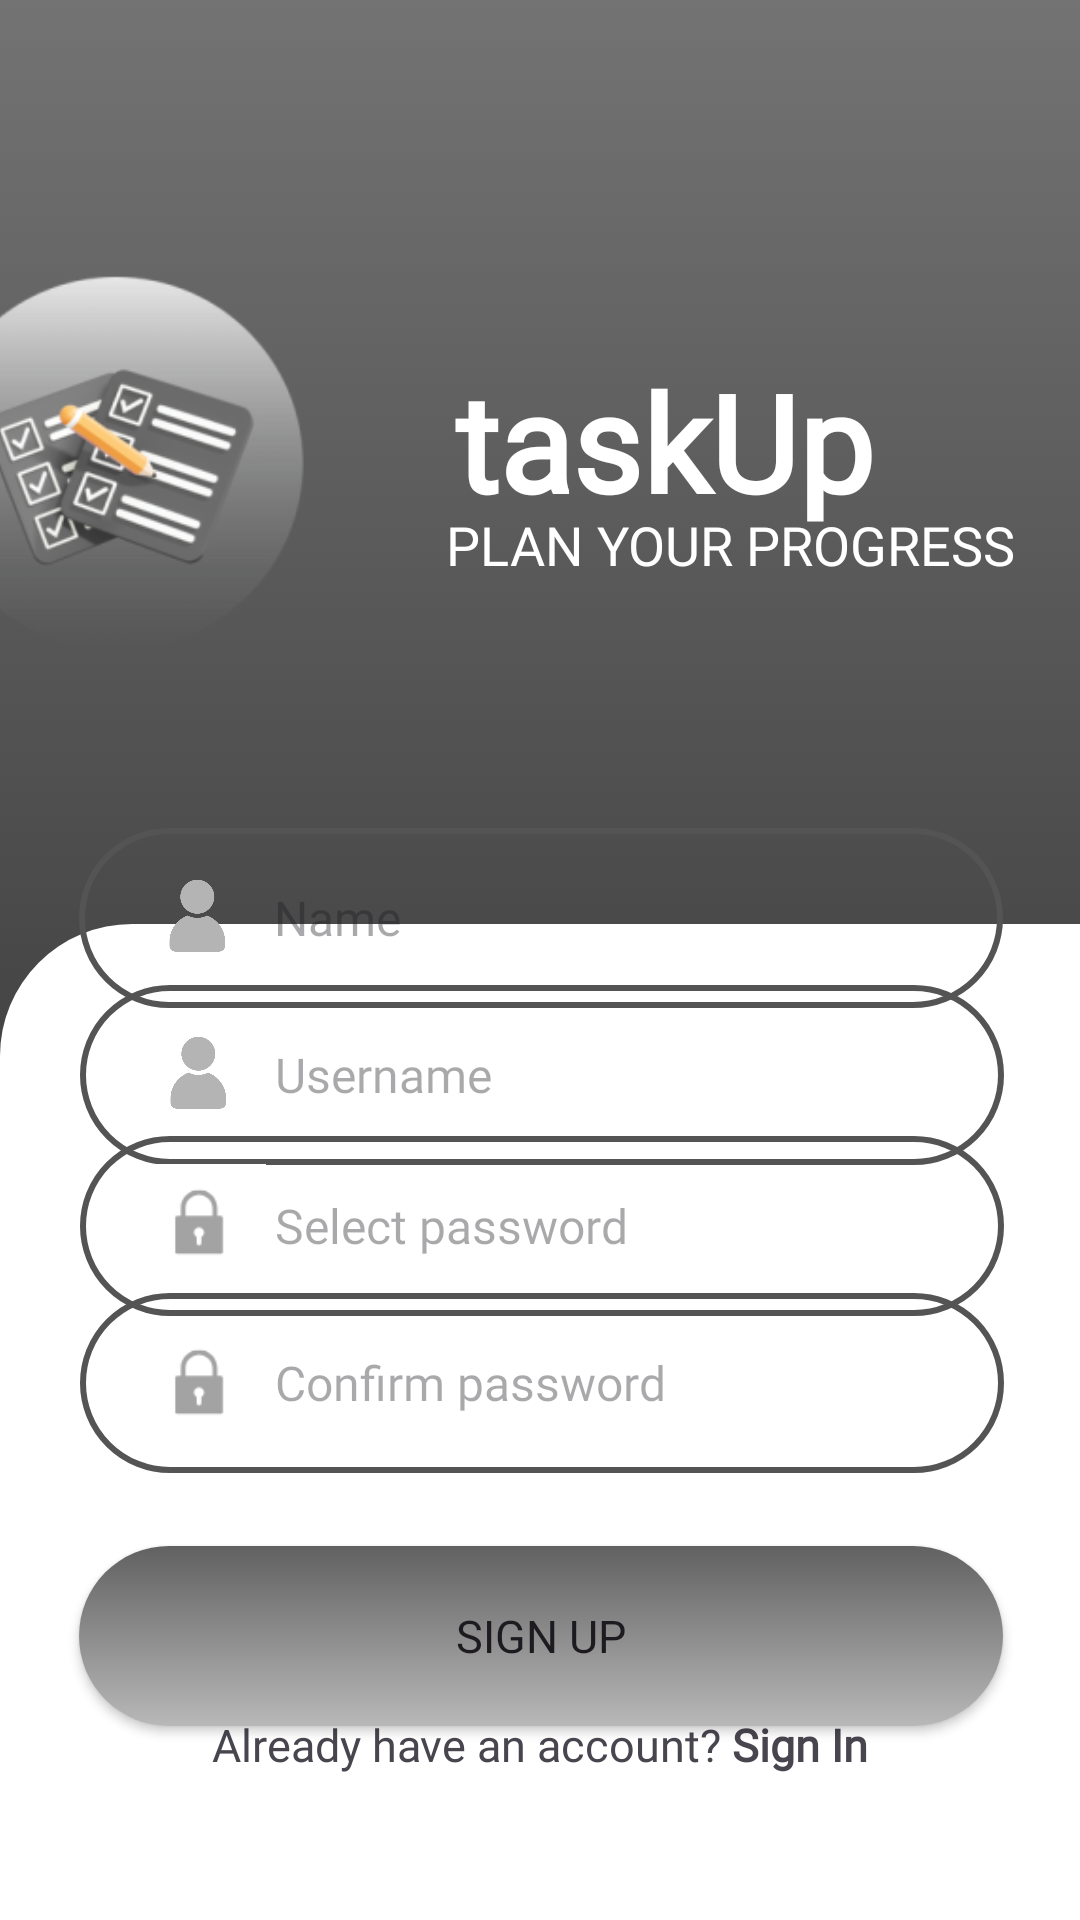

Screen size 1080 x 1920. Icon name, then its center in pixels as (x=x, y=y):
Lock Icon: (x=199, y=1222), (x=199, y=1382)
User Icon: (x=197, y=916), (x=198, y=1073)
